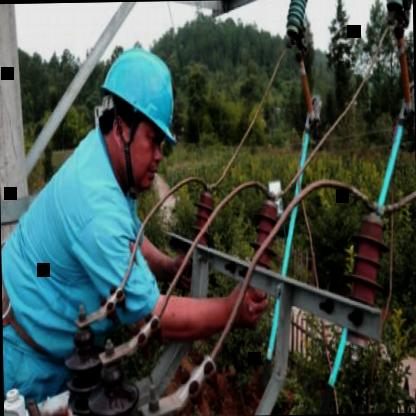helmet: (90, 33, 191, 194)
